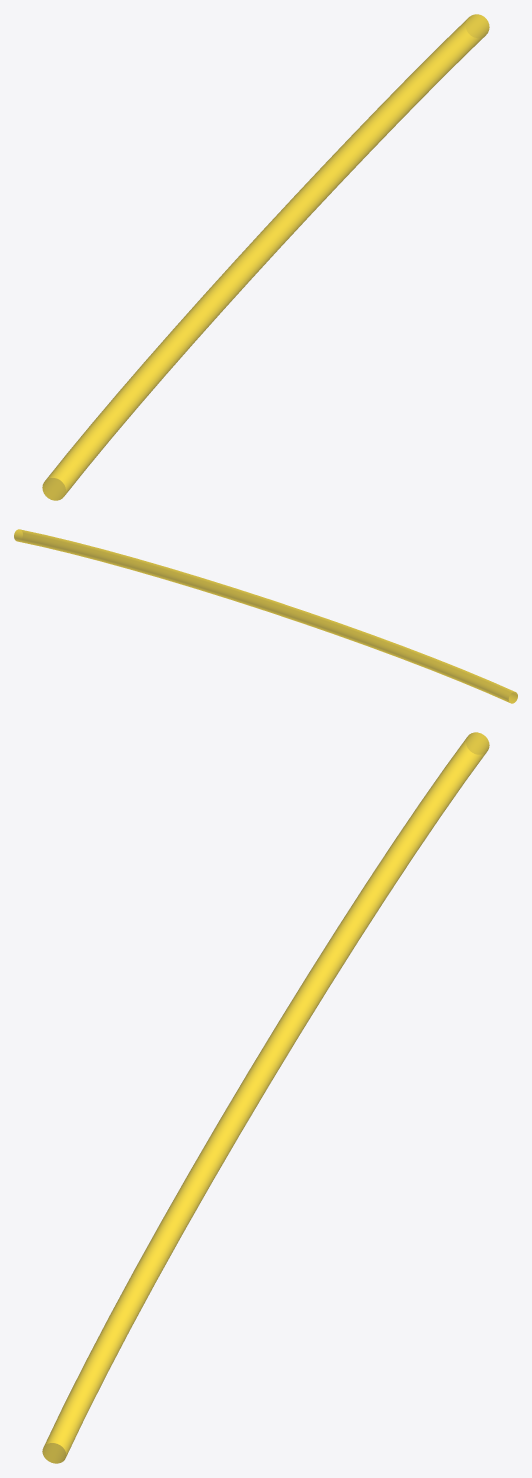
The model's file is Event_17758602_track_75.fbx.
The picture shows the model from 3 angles, top to bottom: view 1: azimuth 90°, elevation 25°; view 2: azimuth 150°, elevation 25°; view 3: azimuth 270°, elevation 25°; orthographic projection. The views are drawn at different scales.
Parts seen in each view (by area): view 1: Model; view 2: Model; view 3: Model.
Boxes of the visible parts, x1=… form: Model: x1=42, y1=14, x2=489, y2=500; Model: x1=14, y1=529, x2=517, y2=703; Model: x1=42, y1=732, x2=489, y2=1463.
Size of the model in its own units: 2.24 by 0.2585 by 0.719.
